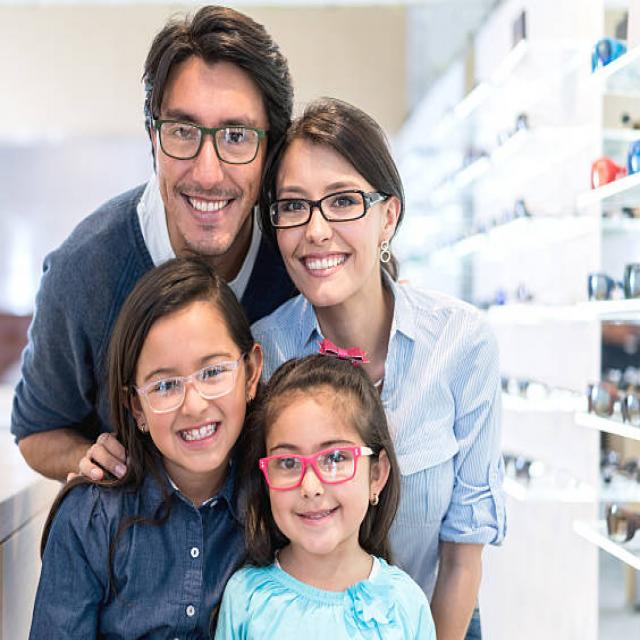Glasses: (133, 354, 245, 416), (154, 116, 267, 166), (259, 443, 372, 493), (266, 188, 383, 232)
